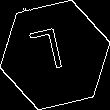L_S: (34, 27, 76, 83)
